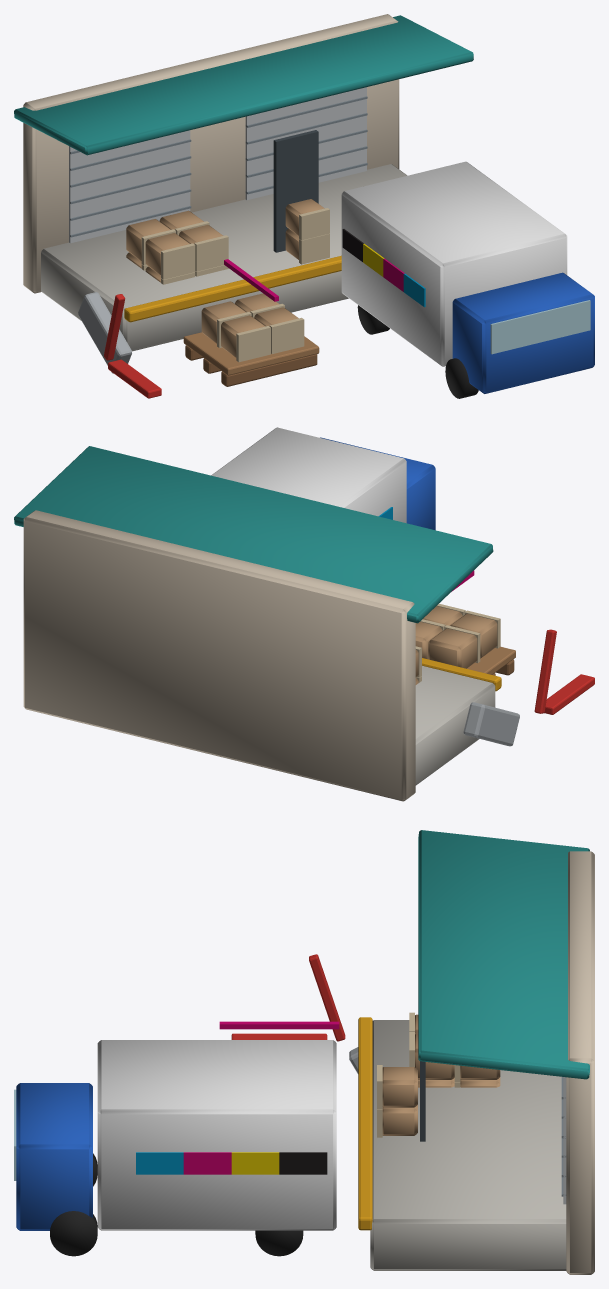
The model's file is m_cargodock.glb.
3 renders of one model, top to bottom at view 1: azimuth 30°, elevation 25°; view 2: azimuth 150°, elevation 25°; view 3: azimuth 270°, elevation 25°, orthographic. The views are drawn at different scales.
Parts seen in each view (by area): view 1: m_cargodock; view 2: m_cargodock; view 3: m_cargodock.
Part boxes in pixels (x1,y1,x2,y2): m_cargodock: (14,14,594,398); m_cargodock: (14,427,594,801); m_cargodock: (14,830,594,1274).
Bounding box in the file's own units: 1.15 × 0.5736 × 1.22.
